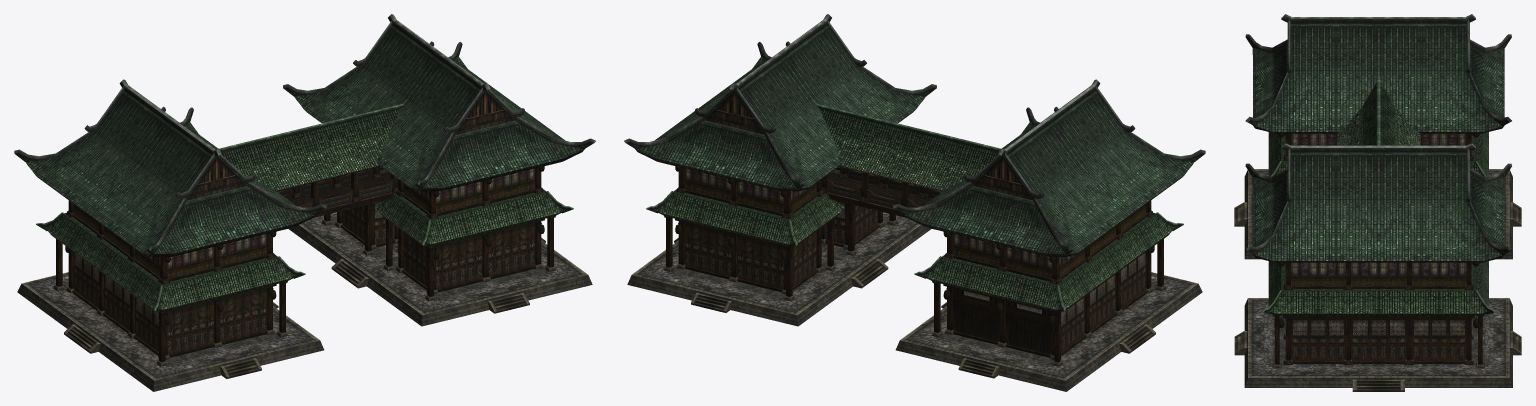
Rendered from c1-009-hotel01.fbx.
3 views of the same model, side by side, from view 1: azimuth 30°, elevation 25°; view 2: azimuth 150°, elevation 25°; view 3: azimuth 270°, elevation 25° (orthographic).
Visible parts, largest first — view 1: c1-009-hotel03; view 2: c1-009-hotel03; view 3: c1-009-hotel03.
Boxes of the visible parts, bbox=[...] form: c1-009-hotel03: bbox=[14, 14, 595, 391]; c1-009-hotel03: bbox=[624, 14, 1205, 391]; c1-009-hotel03: bbox=[1234, 14, 1521, 391].
Size of the model in its own units: 35.89 by 15.6 by 19.9.
